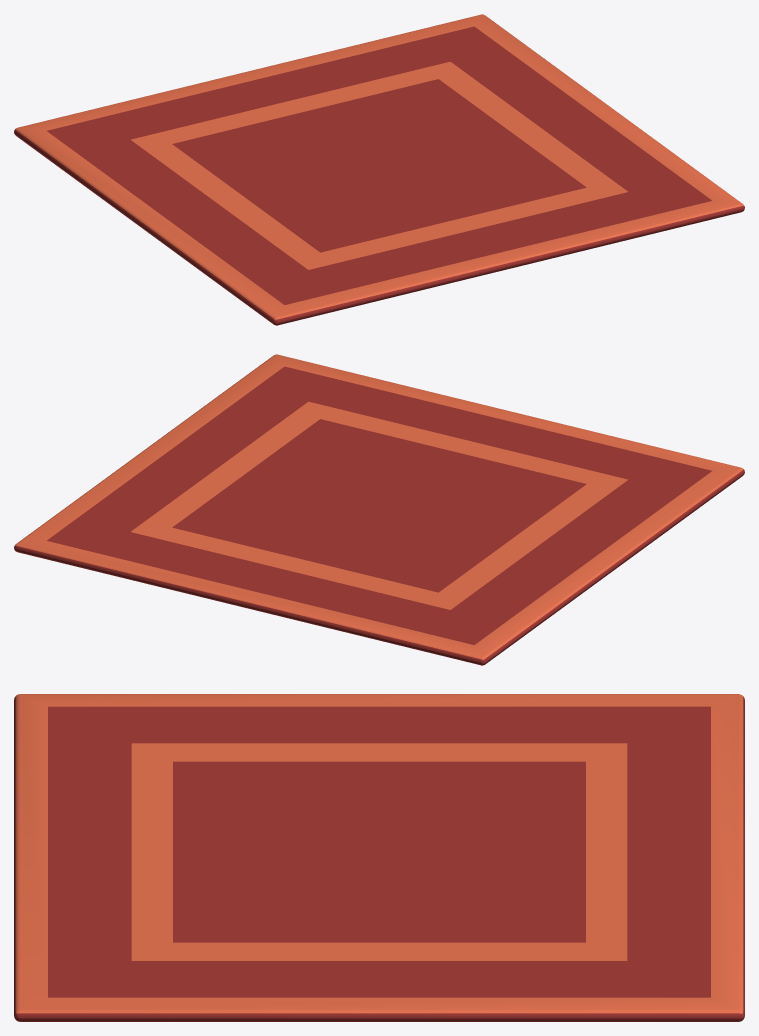
File: carpet-transformed.glb
The picture shows the model from 3 angles, top to bottom: view 1: azimuth 30°, elevation 25°; view 2: azimuth 150°, elevation 25°; view 3: azimuth 270°, elevation 25°; orthographic projection. The views are drawn at different scales.
Visible parts, largest first — view 1: carpet; view 2: carpet; view 3: carpet.
Part boxes in pixels (box(x1,y1,x2,y2)): carpet: box(14, 14, 744, 325); carpet: box(14, 354, 744, 665); carpet: box(14, 694, 744, 1021).
Size of the model in its own units: 24.18 by 0.4062 by 23.31.
